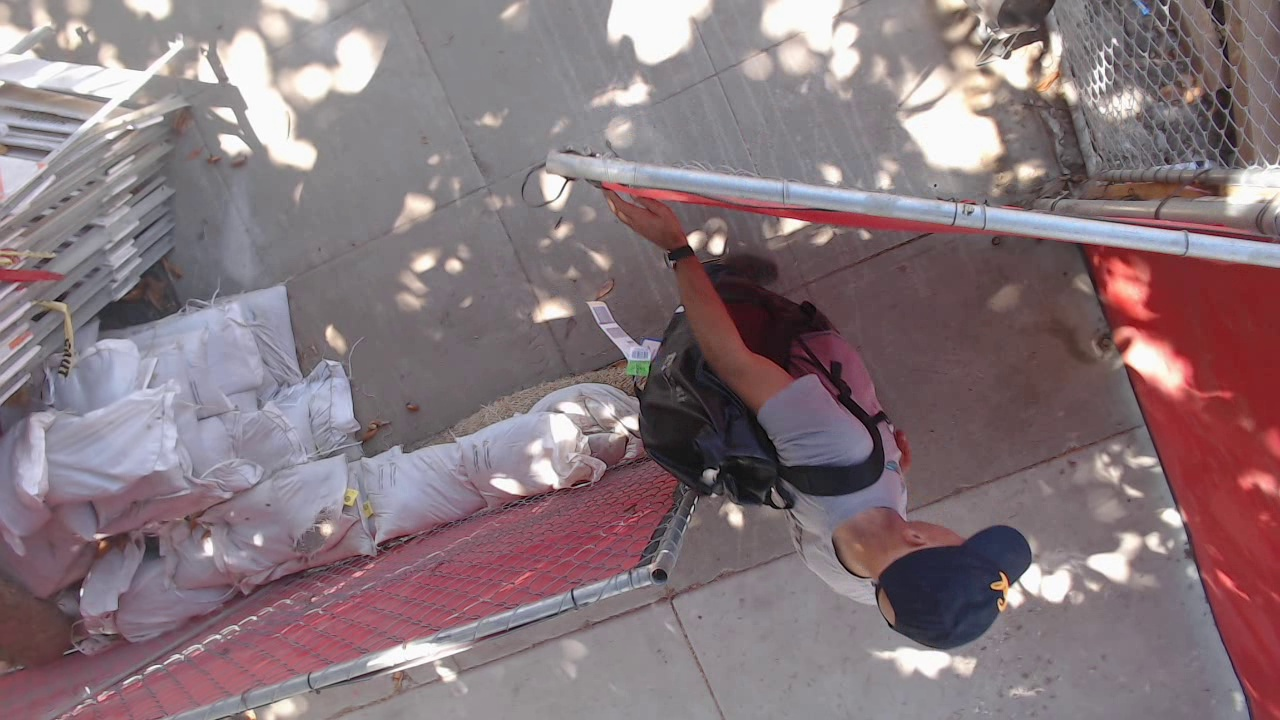blue: (429, 305, 472, 360)
hardhat: (409, 265, 575, 437)
person: (431, 184, 679, 439)
safetyvest: (444, 208, 629, 405)
